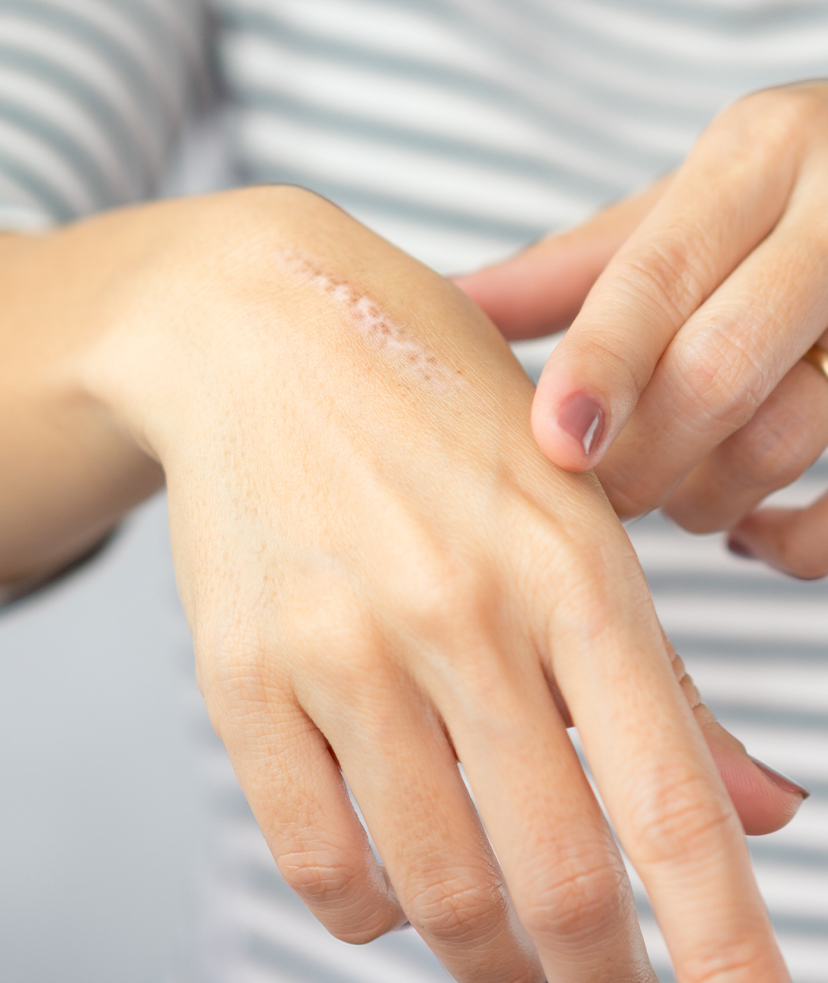scar: (257, 235, 489, 422)
